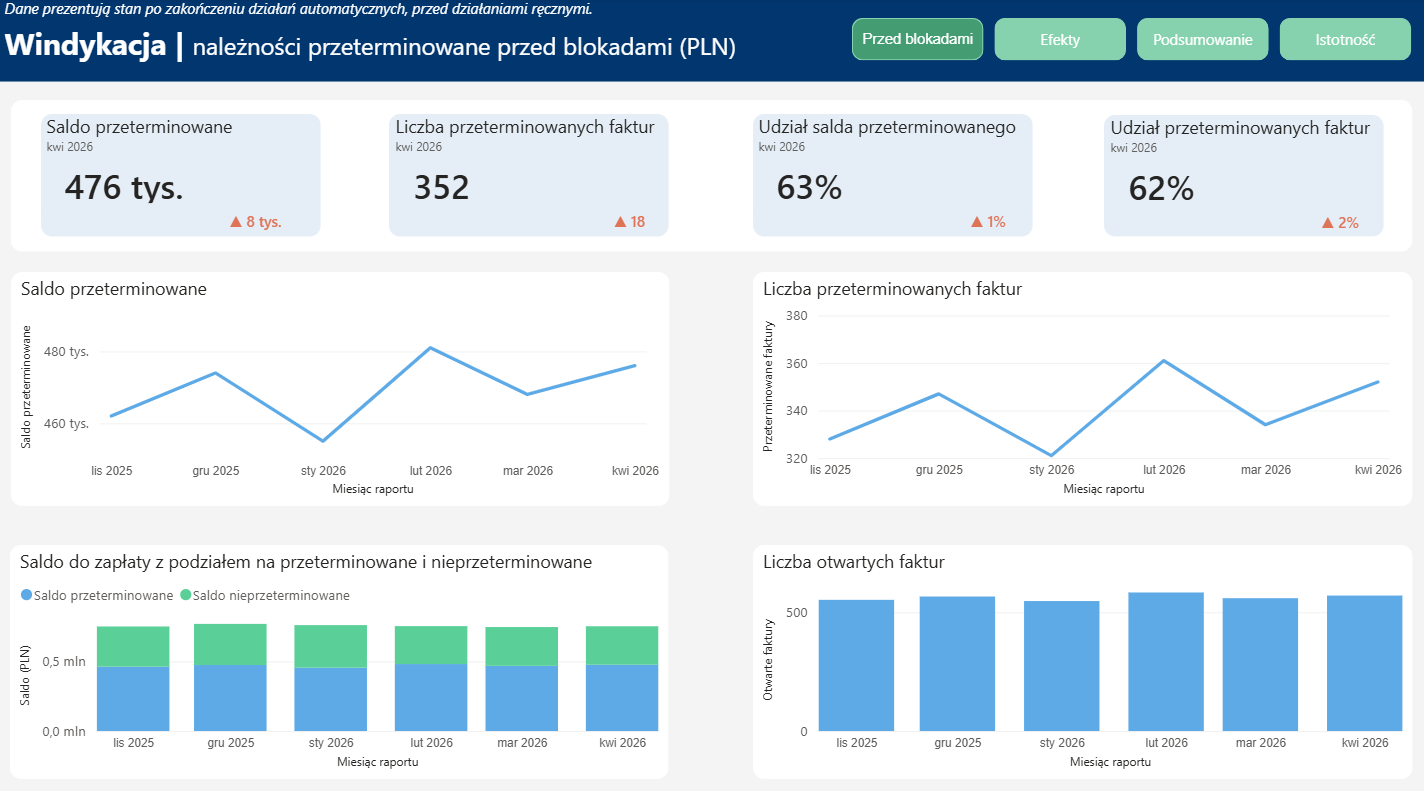

The page's visual inventory and layout, read from the dashboard file:
{"tool":"powerbi","page":{"name":"Przed blokadami","canvas":[1280,720],"ordinal":0},"visuals":[{"type":"shape","box":[10.9,91.4,1258.3,135.8],"z":1000},{"type":"textbox","title":"Dane prezentują stan po zakończeniu działań automatycznych, przed działaniami ręcznymi.","box":[0,0,1280.2,75],"z":2000},{"type":"lineChart","title":"Saldo przeterminowane ","fields":{"Y":["Sum(Historia_miesiące(agregaty) PLN.Saldo_przeterminowane)"],"Category":["Historia_miesiące(agregaty) PLN.ReportMonth"]},"box":[10.9,246.2,591.1,210],"z":3000},{"type":"lineChart","title":"Liczba przeterminowanych faktur","fields":{"Y":["Sum(Historia_miesiące(agregaty) PLN.Liczba_przeterminowanych_faktur)"],"Category":["Historia_miesiące(agregaty) PLN.ReportMonth"]},"box":[677.1,246.2,592,210],"z":4000},{"type":"columnChart","title":"Saldo do zapłaty z podziałem na przeterminowane i nieprzeterminowane ","fields":{"Y":["Sum(Historia_miesiące(agregaty) PLN.Saldo_przeterminowane)","Sum(Historia_miesiące(agregaty) PLN.Saldo_nieprzeterminowane )"],"Category":["Historia_miesiące(agregaty) PLN.ReportMonth"]},"box":[10,490.6,591.1,210],"z":5000},{"type":"columnChart","title":"Liczba otwartych faktur","fields":{"Y":["Sum(Historia_miesiące(agregaty) PLN.Liczba_otwartych_faktur)"],"Category":["Historia_miesiące(agregaty) PLN.ReportMonth"]},"box":[677.1,490.6,592,210],"z":6000},{"type":"pageNavigator","box":[765.8,18,503.6,38.6],"z":7000},{"type":"shape","box":[38,104.1,250.7,109.5],"z":8000},{"type":"cardVisual","title":"Saldo przeterminowane","fields":{"Data":["Miara.KPI - Saldo przeterminowane"]},"box":[38,104.1,237.2,142.1],"z":9000},{"type":"shape","box":[350.3,104.1,250.7,109.5],"z":10000},{"type":"cardVisual","title":"Liczba przeterminowanych faktur ","fields":{"Data":["Miara.KPI - Liczba przeterminowanych"]},"box":[351.2,104.1,250.7,142.1],"z":11000},{"type":"shape","box":[992.1,105,250.7,108.6],"z":12000},{"type":"shape","box":[677.1,104.1,250.7,109.5],"z":13000},{"type":"cardVisual","title":"Udział salda przeterminowanego","fields":{"Data":["Miara.KPI - Udział przeterminowania (kwota %)"]},"box":[677.1,104.1,248,142.1],"z":14000},{"type":"cardVisual","title":"Udział przeterminowanych faktur","fields":{"Data":["Miara.KPI - Udział przeterminowanych faktur (%)"]},"box":[993,105,249.8,142],"z":15000}]}

Visuals, with their boxes in screenshot pixels (x1, y1, x2, y2), scaled from the page's 1280x720 canvas onto the 1424x791 screenshot:
shape: 12:100:1412:250
"Dane prezentują stan po zakończeniu działań automatycznych, przed działaniami ręcznymi." textbox: 0:0:1423:82
"Saldo przeterminowane " lineChart: 12:270:670:501
"Liczba przeterminowanych faktur" lineChart: 753:270:1412:501
"Saldo do zapłaty z podziałem na przeterminowane i nieprzeterminowane " columnChart: 11:539:669:770
"Liczba otwartych faktur" columnChart: 753:539:1412:770
pageNavigator: 852:20:1412:62
shape: 42:114:321:235
"Saldo przeterminowane" cardVisual: 42:114:306:270
shape: 390:114:669:235
"Liczba przeterminowanych faktur " cardVisual: 391:114:670:270
shape: 1104:115:1383:235
shape: 753:114:1032:235
"Udział salda przeterminowanego" cardVisual: 753:114:1029:270
"Udział przeterminowanych faktur" cardVisual: 1105:115:1383:271
